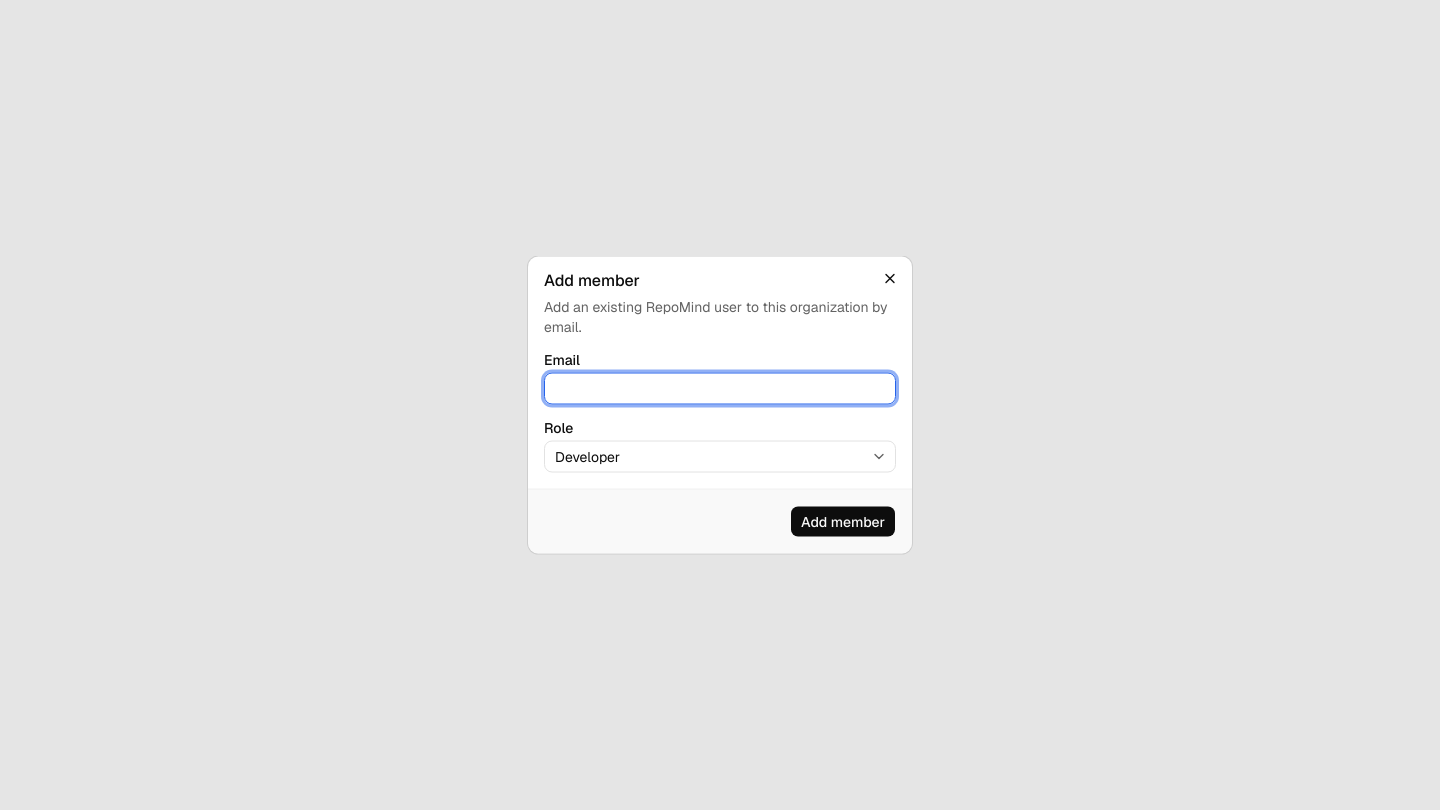
Test: AddMemberDialog › shows a specific message when the organization's plan member limit is reached
Type "new@example.com" into the field labelled "Email".
click(720, 388); type("new@example.com")  # box [544, 372, 896, 404]
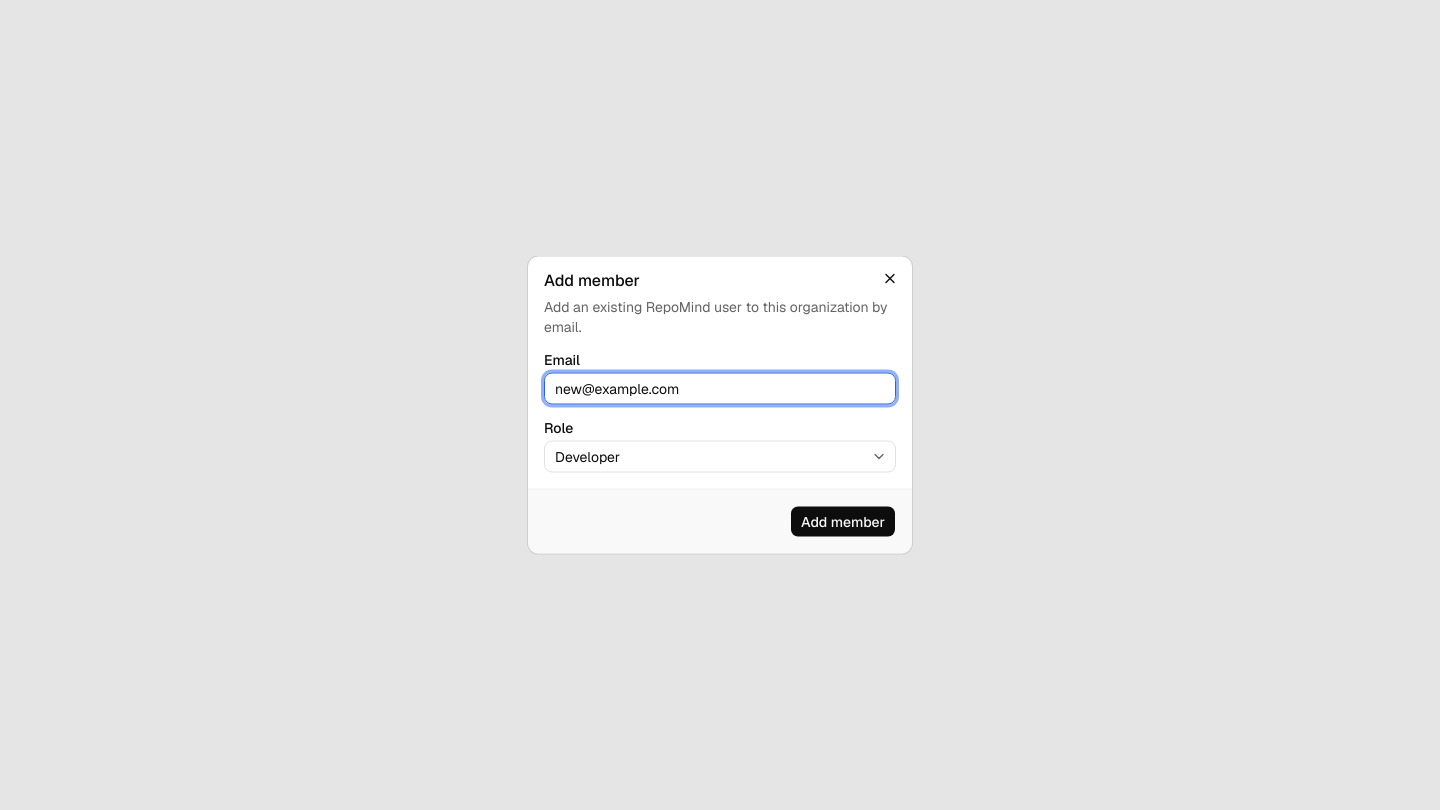
Click the button "Add member".
click(843, 522)  # box [790, 506, 896, 538]
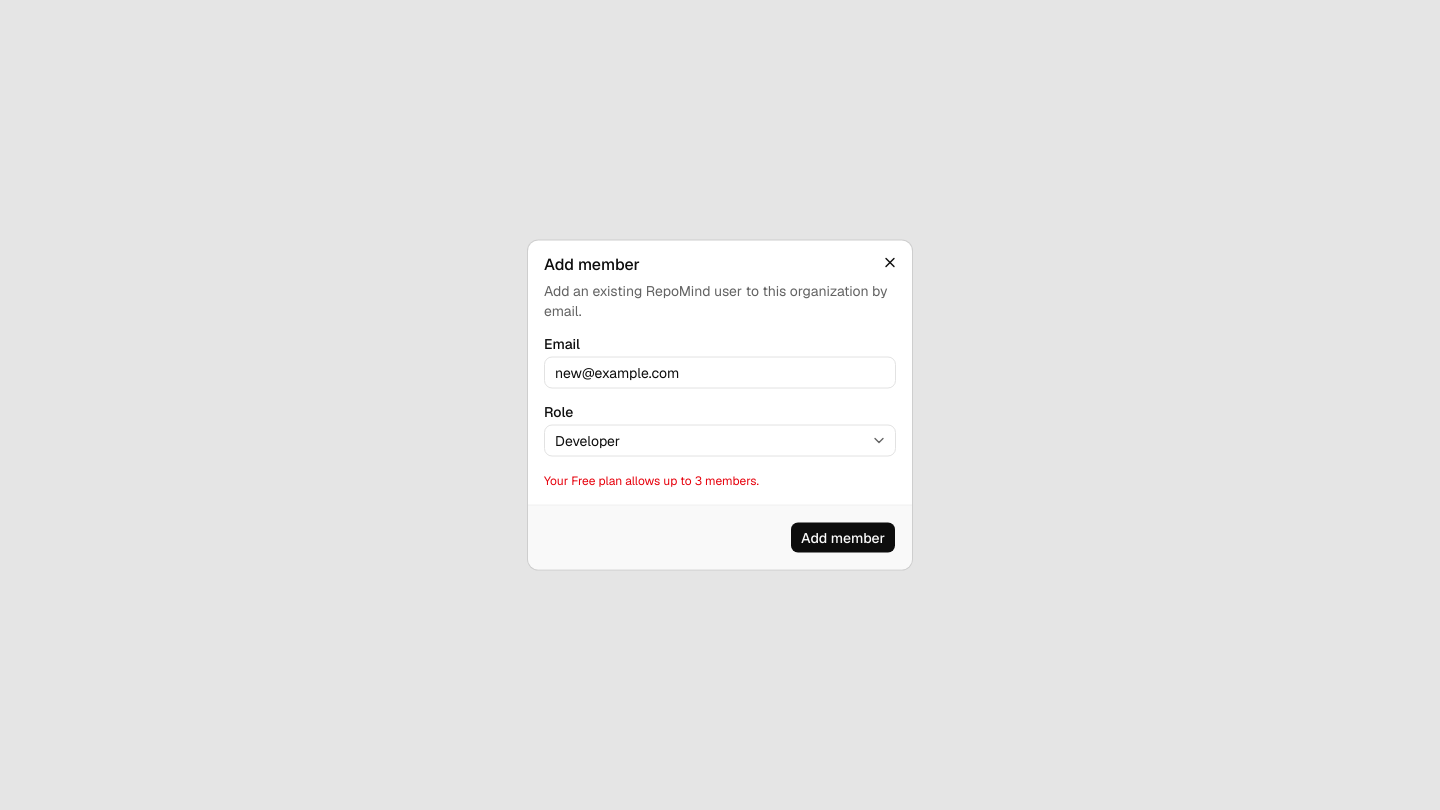
Now the text "Your Free plan allows up to 3 members." is shown, box [544, 472, 759, 488]
